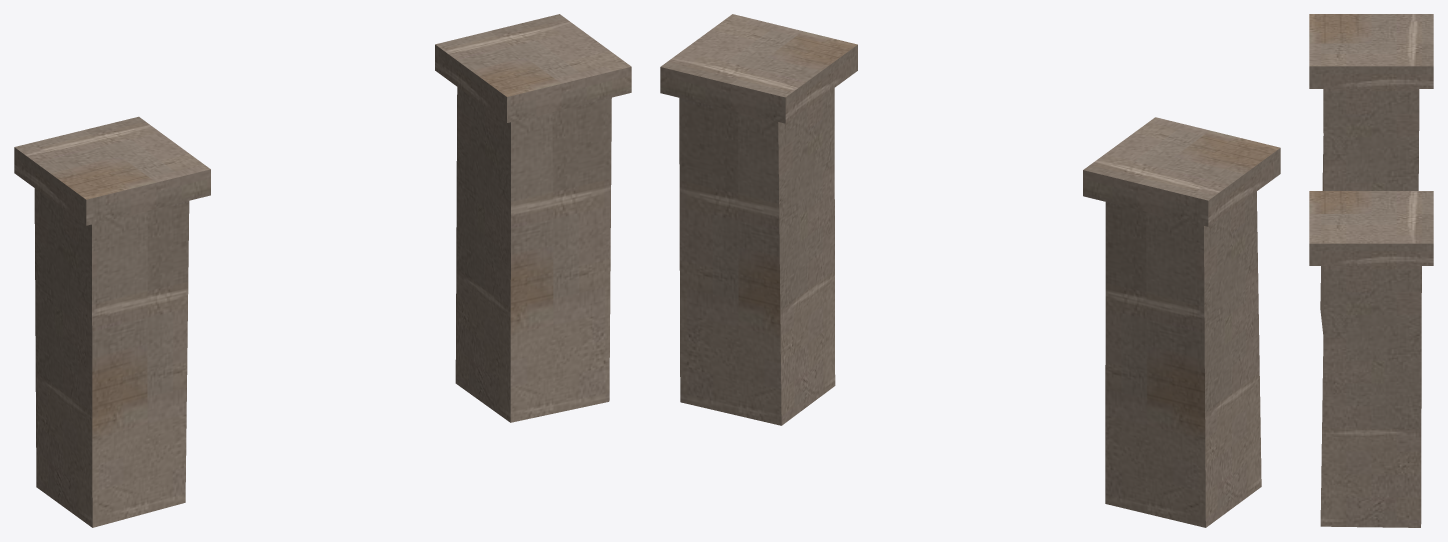
Rendered from gateposts.glb.
The picture shows the model from 3 angles, left to right: view 1: azimuth 30°, elevation 25°; view 2: azimuth 150°, elevation 25°; view 3: azimuth 270°, elevation 25°; orthographic projection. The views are drawn at different scales.
Parts seen in each view (by area): view 1: gateposts; view 2: gateposts; view 3: gateposts.
Part boxes in pixels (left/top/right/bottom): gateposts: left=14, top=14, right=631, bottom=527; gateposts: left=660, top=14, right=1280, bottom=527; gateposts: left=1309, top=14, right=1433, bottom=527.
Size of the model in its own units: 3.5 by 2.06 by 0.8.
Materials: 1 (1 with a texture image).
